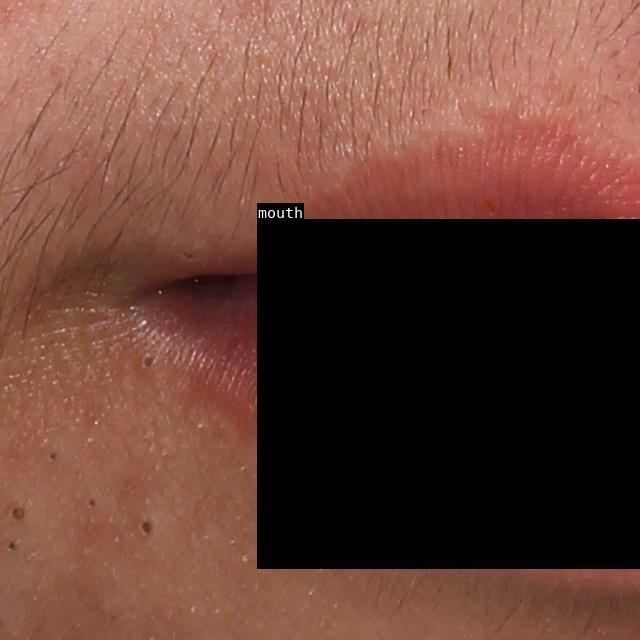comedo: (133, 347, 165, 376), (135, 512, 163, 542), (5, 502, 29, 526), (2, 534, 22, 551), (46, 448, 63, 460)
